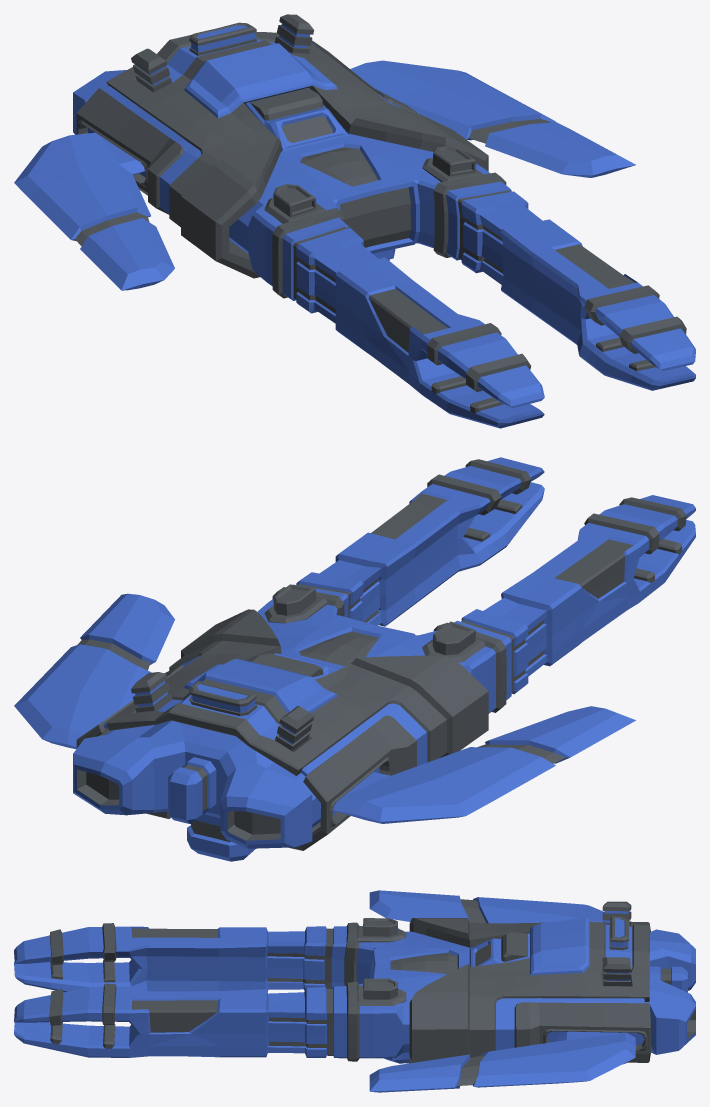
The model's file is Fighter_01_Blue.fbx.
3 views of the same model, one above another, from view 1: azimuth 30°, elevation 25°; view 2: azimuth 150°, elevation 25°; view 3: azimuth 270°, elevation 25° (orthographic). The views are drawn at different scales.
Visible parts, largest first — view 1: Fighter_01_Blue; view 2: Fighter_01_Blue; view 3: Fighter_01_Blue.
Boxes of the visible parts, left/top/right/bottom form: Fighter_01_Blue: left=14, top=14, right=695, bottom=428; Fighter_01_Blue: left=14, top=457, right=695, bottom=861; Fighter_01_Blue: left=14, top=890, right=695, bottom=1092.
Size of the model in its own units: 854 by 257 by 1235.
Materials: 2 (2 with a texture image).
